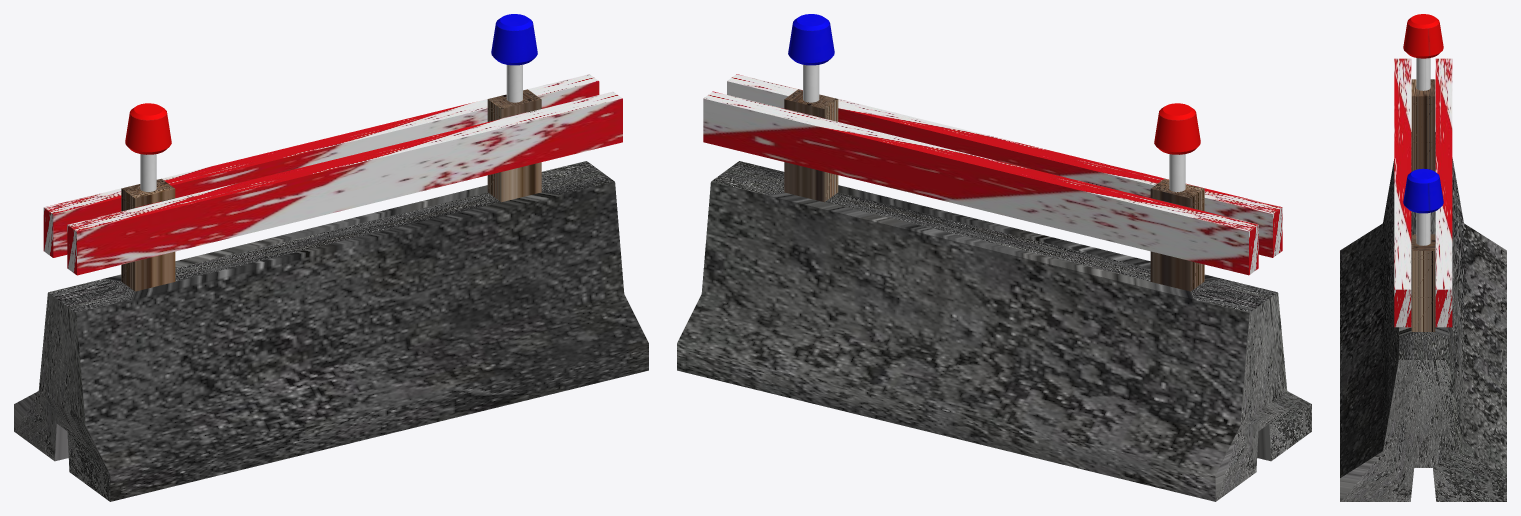
Rendered from BarricadeV1.fbx.
The picture shows the model from 3 angles, left to right: view 1: azimuth 30°, elevation 25°; view 2: azimuth 150°, elevation 25°; view 3: azimuth 270°, elevation 25°; orthographic projection. The views are drawn at different scales.
Parts seen in each view (by area): view 1: pCube4; view 2: pCube4; view 3: pCube4.
Boxes of the visible parts, box(x1,y1,x2,y2) form: pCube4: box(14, 14, 648, 501); pCube4: box(677, 14, 1311, 501); pCube4: box(1340, 14, 1506, 501).
Size of the model in its own units: 4.3 by 2.53 by 1.31.
